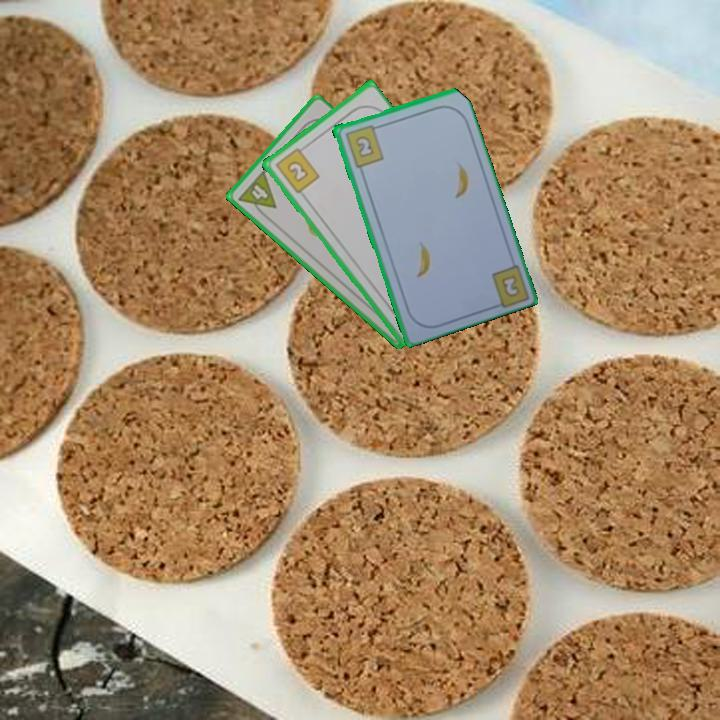2b: (271, 142, 322, 196), (341, 121, 386, 170), (500, 274, 520, 298)
4p: (234, 167, 279, 221)
